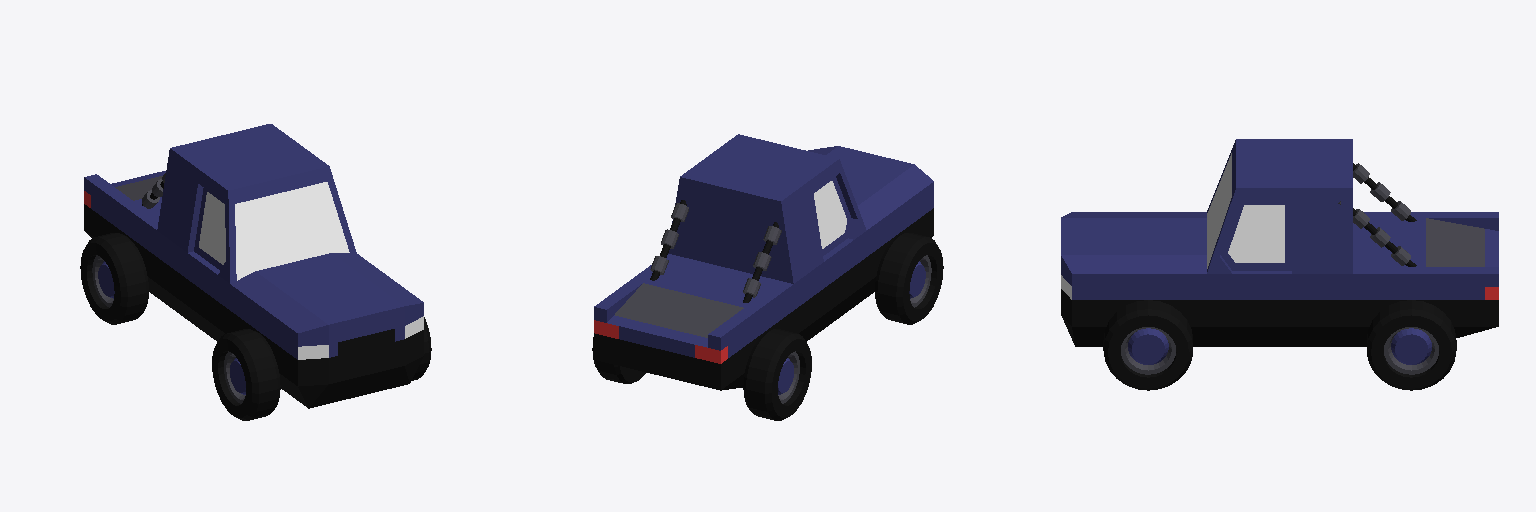
File: car2.obj
3 renders of one model, left to right at view 1: azimuth 30°, elevation 25°; view 2: azimuth 150°, elevation 25°; view 3: azimuth 270°, elevation 25°, orthographic.
Parts seen in each view (by area): view 1: body_topVan, body_frontSUV, wheel_classic, body_backFins, body_standard; view 2: body_topVan, body_backFins, wheel_classic, body_frontSUV, body_standard, tube_steel; view 3: body_topVan, body_frontSUV, body_backFins, wheel_classic, body_standard, tube_steel.
Part boxes in pixels (x1,y1,x2,y2): body_topVan: (157,124,356,283); body_frontSUV: (230,253,423,408); wheel_classic: (80,233,431,420); body_backFins: (84,171,169,306); body_standard: (157,231,229,341); body_topVan: (668,134,866,283); body_backFins: (594,254,793,390); wheel_classic: (592,233,943,420); body_frontSUV: (808,146,933,306); body_standard: (794,231,866,341); tube_steel: (650,200,781,302); body_topVan: (1207,139,1352,273); body_frontSUV: (1061,212,1206,346); body_backFins: (1353,212,1498,346); wheel_classic: (1103,300,1456,390); body_standard: (1207,271,1352,346); tube_steel: (1338,163,1416,266).
Bounding box in the file's own units: 1.42 × 1.41 × 3.